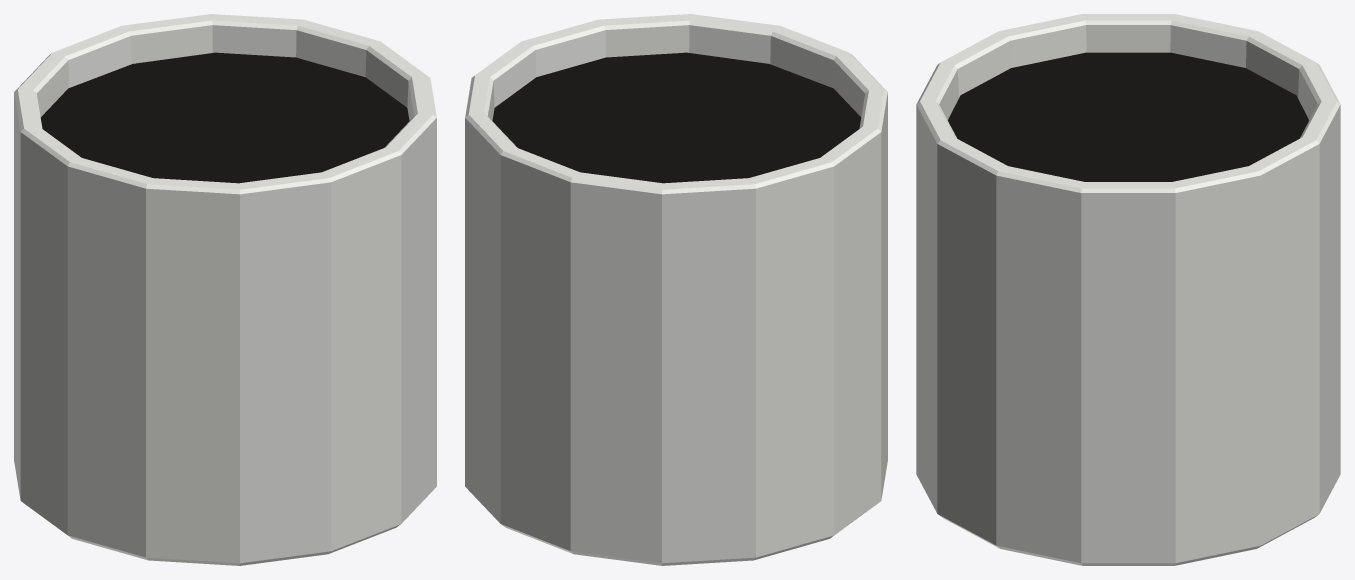
Rendered from Plant_Pot_Cylinder.fbx.
The picture shows the model from 3 angles, left to right: view 1: azimuth 30°, elevation 25°; view 2: azimuth 150°, elevation 25°; view 3: azimuth 270°, elevation 25°; orthographic projection.
Parts seen in each view (by area): view 1: Plant_B_Pot; view 2: Plant_B_Pot; view 3: Plant_B_Pot.
Boxes of the visible parts, <box> form: Plant_B_Pot: <box>14,14,436,565</box>; Plant_B_Pot: <box>465,14,887,565</box>; Plant_B_Pot: <box>916,14,1340,565</box>.
Size of the model in its own units: 38.64 by 38.41 by 39.01.
Materials: 1 (1 with a texture image).
